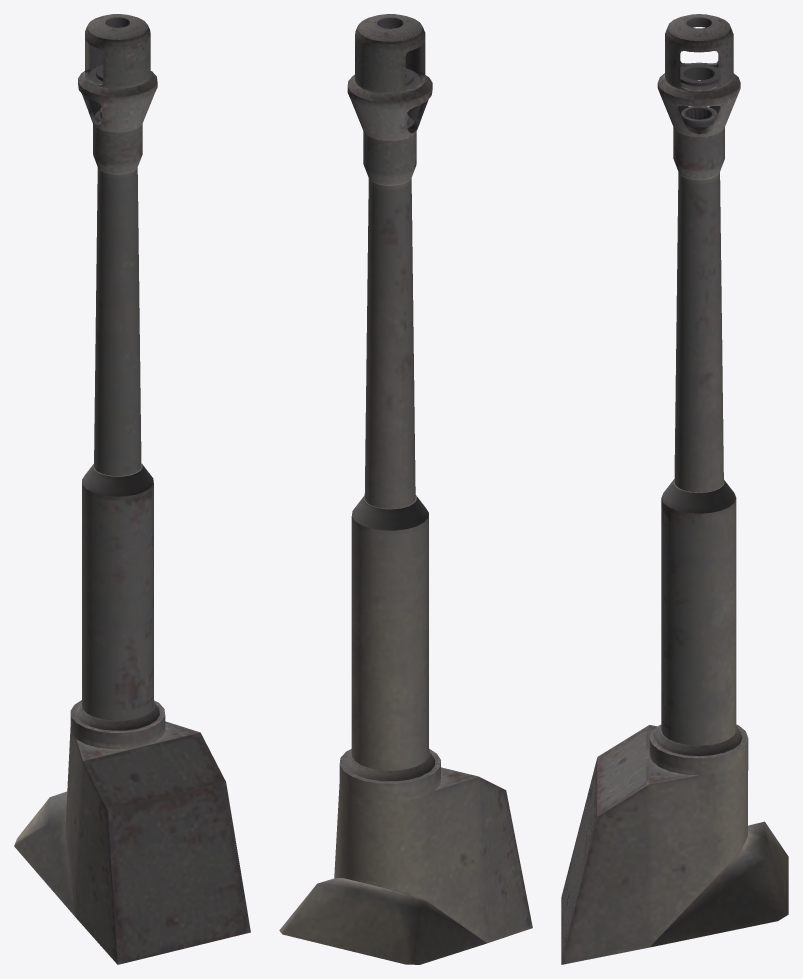
Rendered from Gun_01.glb.
The picture shows the model from 3 angles, left to right: view 1: azimuth 30°, elevation 25°; view 2: azimuth 150°, elevation 25°; view 3: azimuth 270°, elevation 25°; orthographic projection. The views are drawn at different scales.
Visible parts, largest first — view 1: set_0_group_0; view 2: set_0_group_0; view 3: set_0_group_0.
Part boxes in pixels (x1,y1,x2,y2): set_0_group_0: (14, 14, 250, 964); set_0_group_0: (279, 14, 532, 964); set_0_group_0: (561, 14, 788, 964).
Bounding box in the file's own units: 0.4572 × 2.88 × 0.6527.
1 material, 1 textured.
